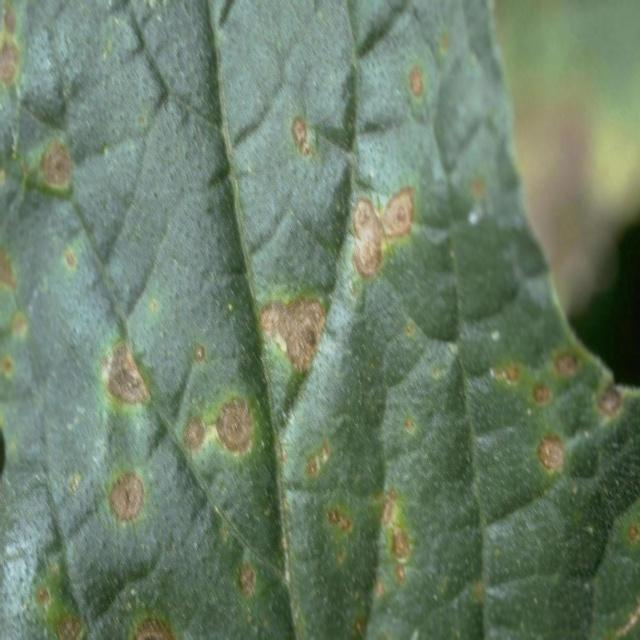leaf_spot: (4, 29, 528, 636)
